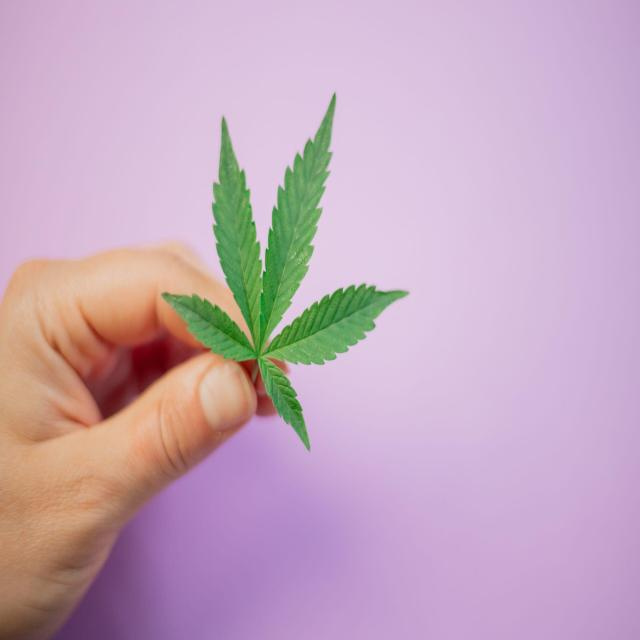cannabis: (159, 96, 407, 450)
